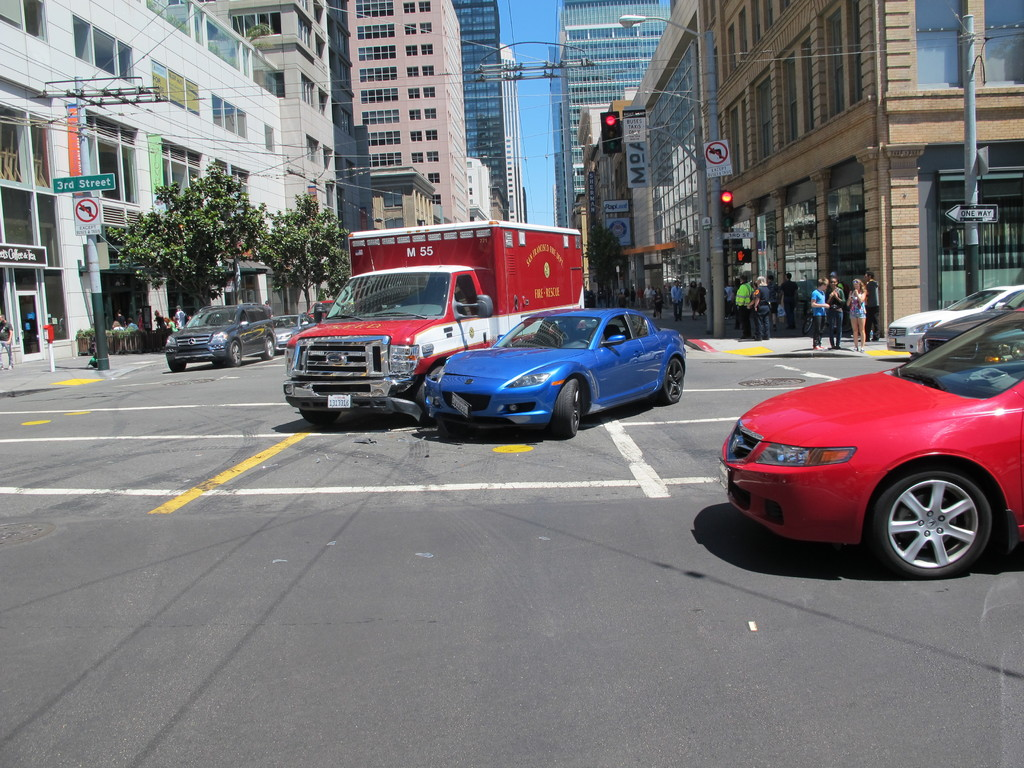Car: (717, 305, 1023, 579), (421, 308, 691, 434), (885, 278, 1023, 356), (161, 300, 279, 369), (917, 289, 1020, 350), (274, 309, 312, 344)
